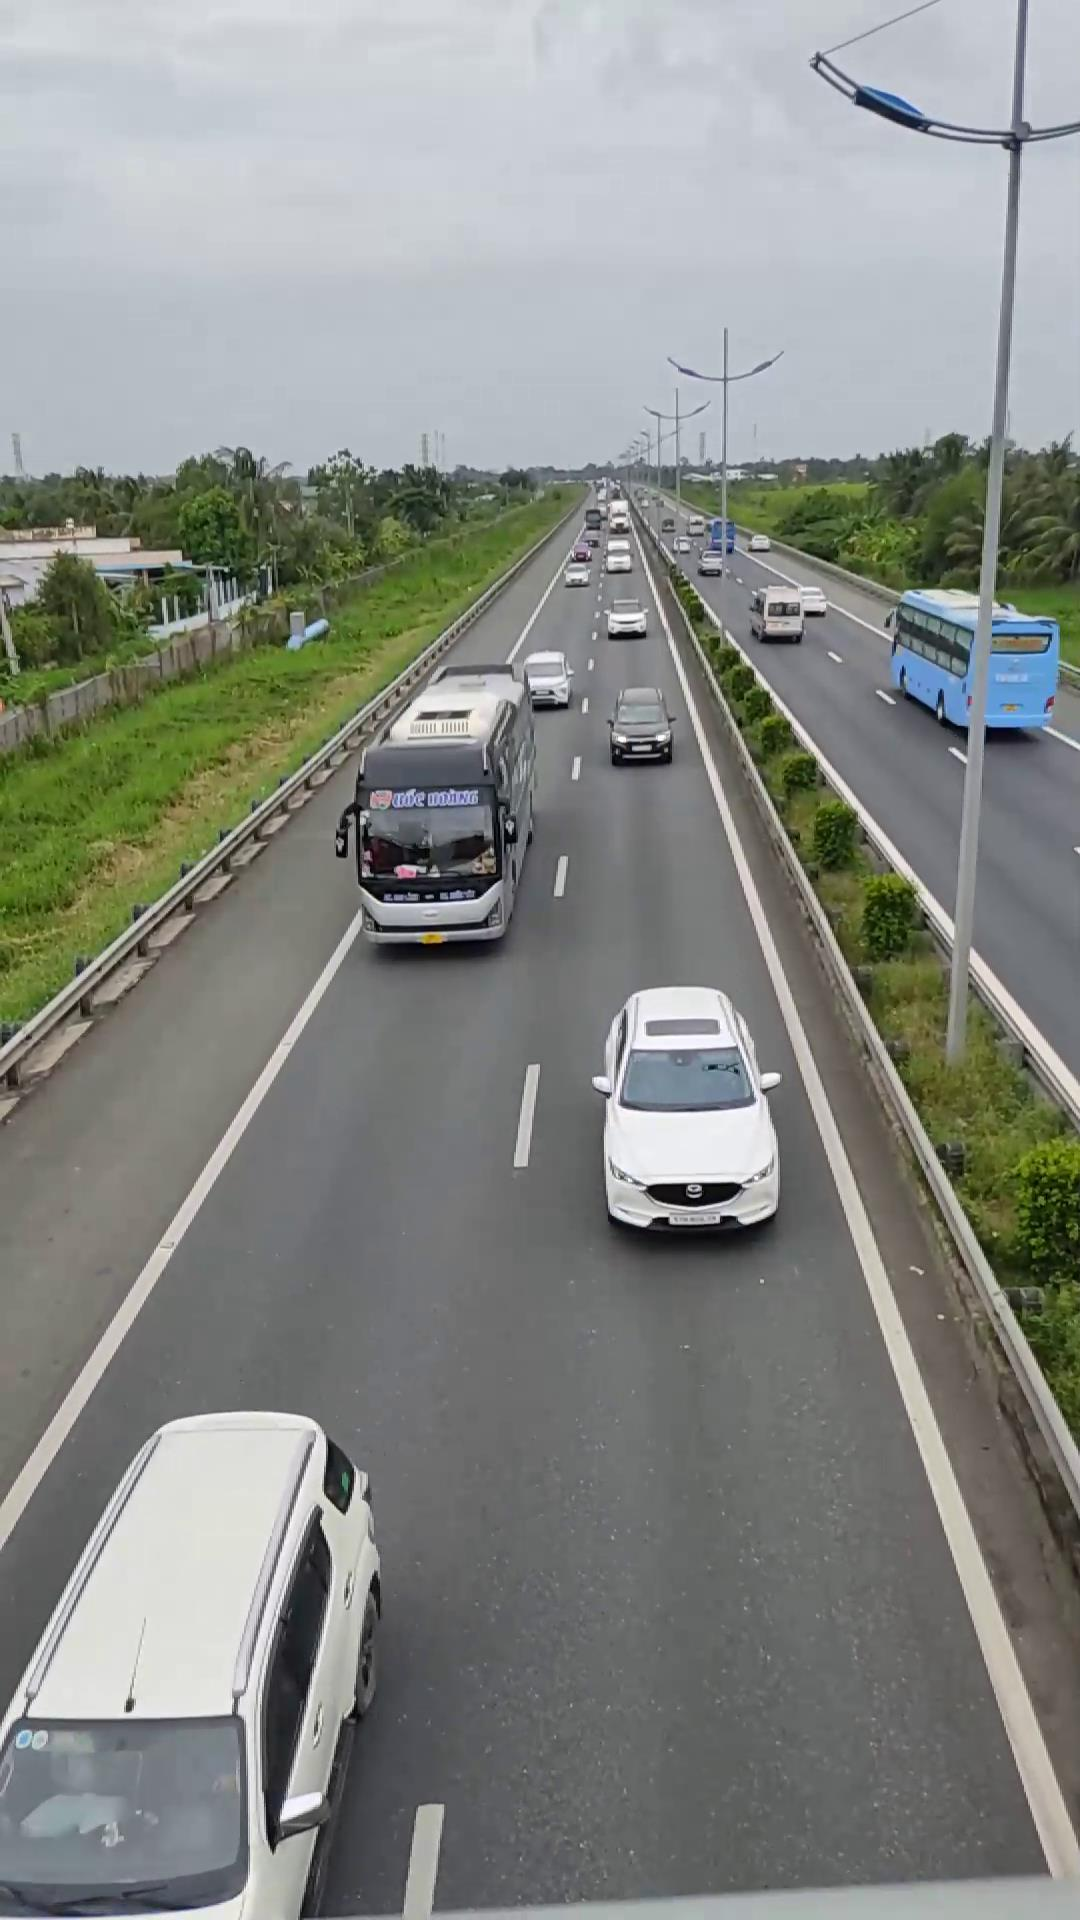bus: (342, 665, 538, 949)
car: (0, 1407, 386, 1920), (589, 984, 785, 1237), (605, 687, 676, 764)
